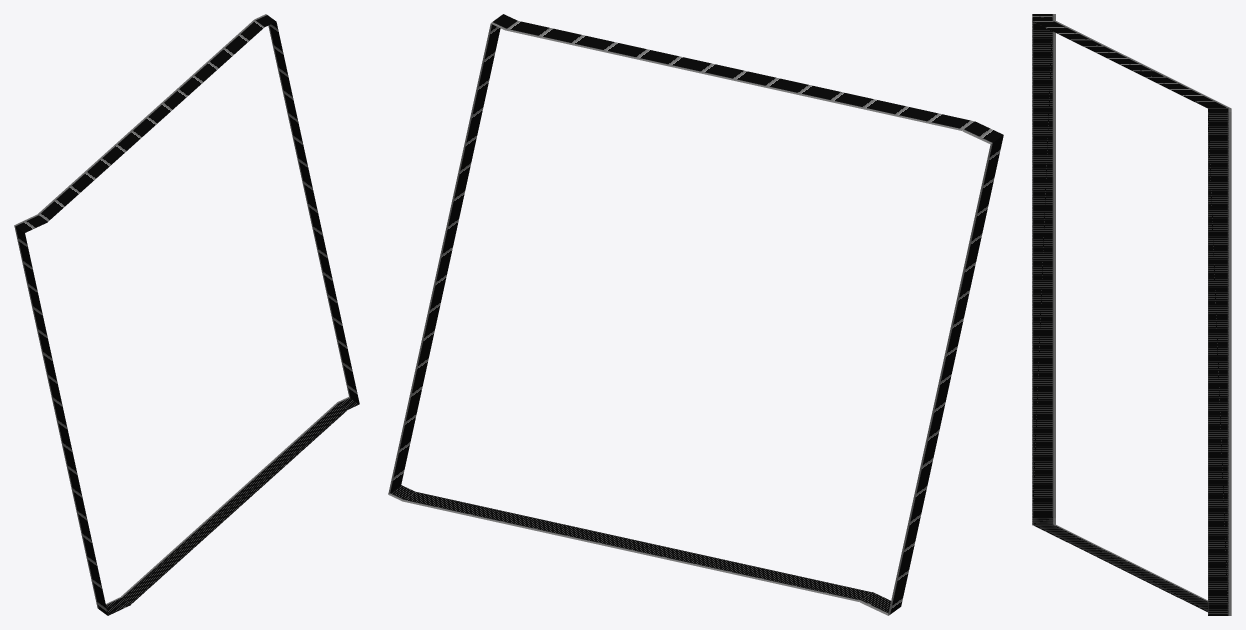
Rendered from _0TRIBUENE_02_013_SUB0.obj.
3 renders of one model, left to right at view 1: azimuth 30°, elevation 25°; view 2: azimuth 150°, elevation 25°; view 3: azimuth 270°, elevation 25°, orthographic. The views are drawn at different scales.
Visible parts, largest first — view 1: _0TRIBUENE_02_013_SUB0_Scene.155; view 2: _0TRIBUENE_02_013_SUB0_Scene.155; view 3: _0TRIBUENE_02_013_SUB0_Scene.155.
Part boxes in pixels (x1,y1,x2,y2): _0TRIBUENE_02_013_SUB0_Scene.155: (14, 14, 359, 615); _0TRIBUENE_02_013_SUB0_Scene.155: (388, 14, 1003, 615); _0TRIBUENE_02_013_SUB0_Scene.155: (1032, 14, 1231, 615).
Bounding box in the file's own units: 3459 × 3829 × 1272.
